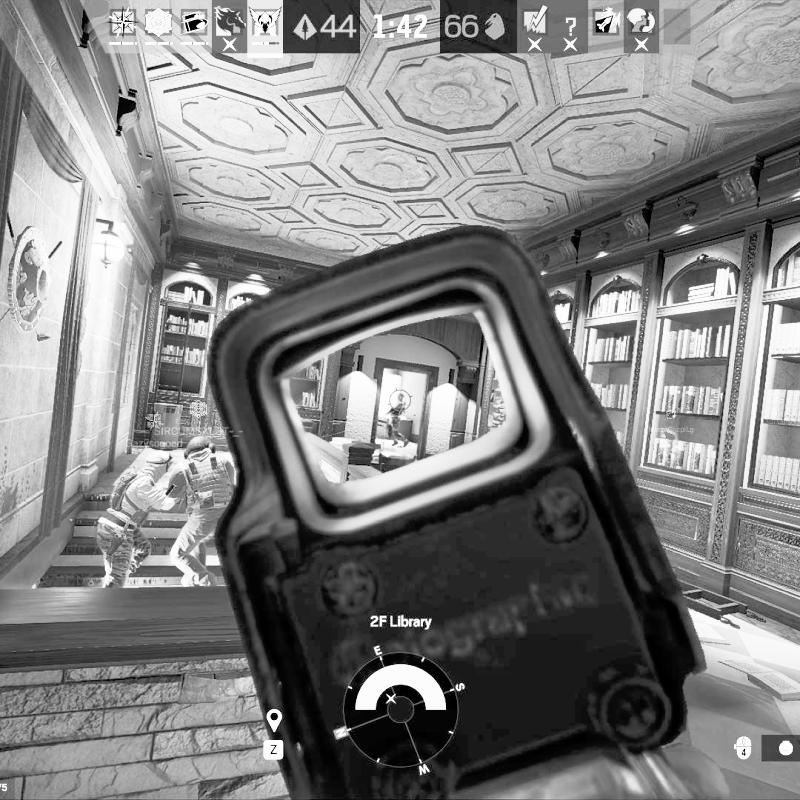Character: (167, 433, 237, 591), (96, 447, 174, 588), (383, 390, 414, 450)
Friend_label: (156, 398, 235, 437), (124, 410, 185, 451), (645, 406, 699, 436)
Head: (145, 449, 171, 478), (184, 434, 215, 458), (396, 391, 405, 402)
